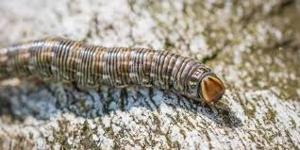fallarmy_worm: (1, 37, 230, 112)
